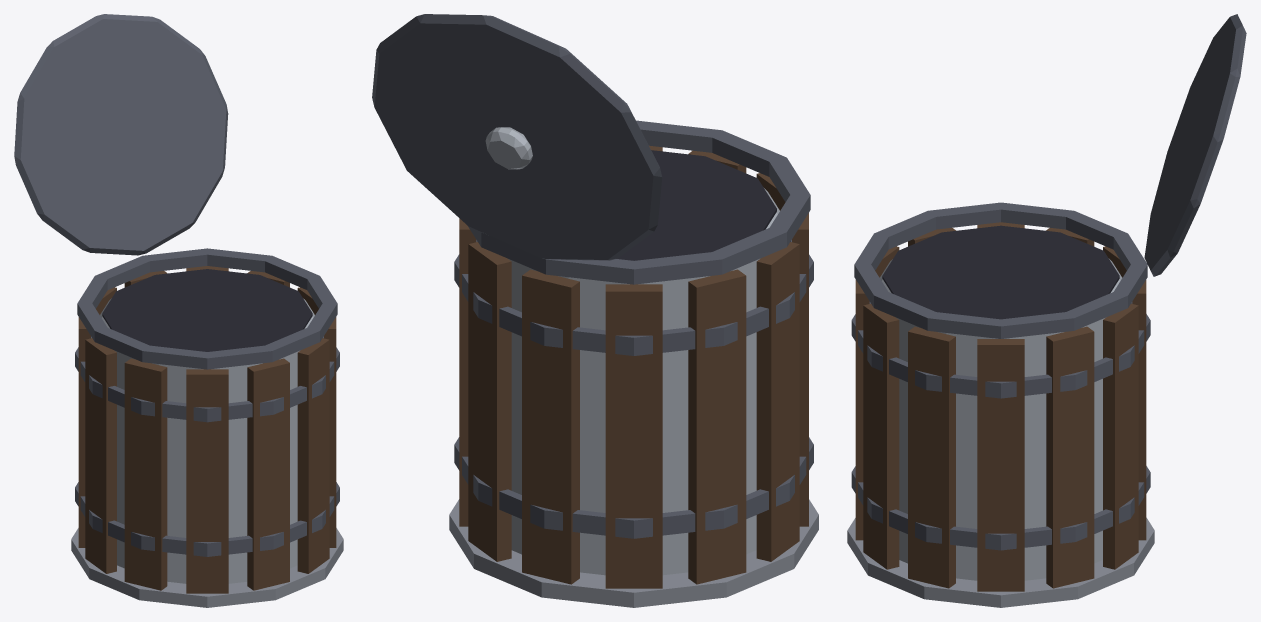
Rendered from CatCafe_Park_TrashCan.glb.
3 renders of one model, left to right at view 1: azimuth 30°, elevation 25°; view 2: azimuth 150°, elevation 25°; view 3: azimuth 270°, elevation 25°, orthographic. The views are drawn at different scales.
Visible parts, largest first — view 1: CatCafe_Park_TrashCan_Can, CatCafe_Park_TrashCan_Lid; view 2: CatCafe_Park_TrashCan_Can, CatCafe_Park_TrashCan_Lid; view 3: CatCafe_Park_TrashCan_Can, CatCafe_Park_TrashCan_Lid.
Boxes of the visible parts, bbox=[...] form: CatCafe_Park_TrashCan_Can: bbox=[71, 248, 343, 607]; CatCafe_Park_TrashCan_Lid: bbox=[14, 14, 228, 255]; CatCafe_Park_TrashCan_Can: bbox=[449, 120, 818, 607]; CatCafe_Park_TrashCan_Lid: bbox=[372, 14, 662, 260]; CatCafe_Park_TrashCan_Can: bbox=[847, 202, 1154, 607]; CatCafe_Park_TrashCan_Lid: bbox=[1144, 14, 1246, 276].
Size of the model in its own units: 2.2 by 4.07 by 2.86.
Materials: 1 (1 with a texture image).
